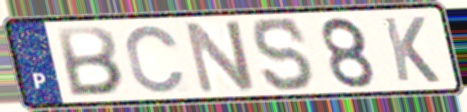8: (319, 14, 377, 90)
B: (54, 24, 126, 98)
C: (123, 23, 188, 95)
K: (379, 15, 444, 85)
N: (181, 17, 259, 97)
S: (250, 15, 318, 94)
